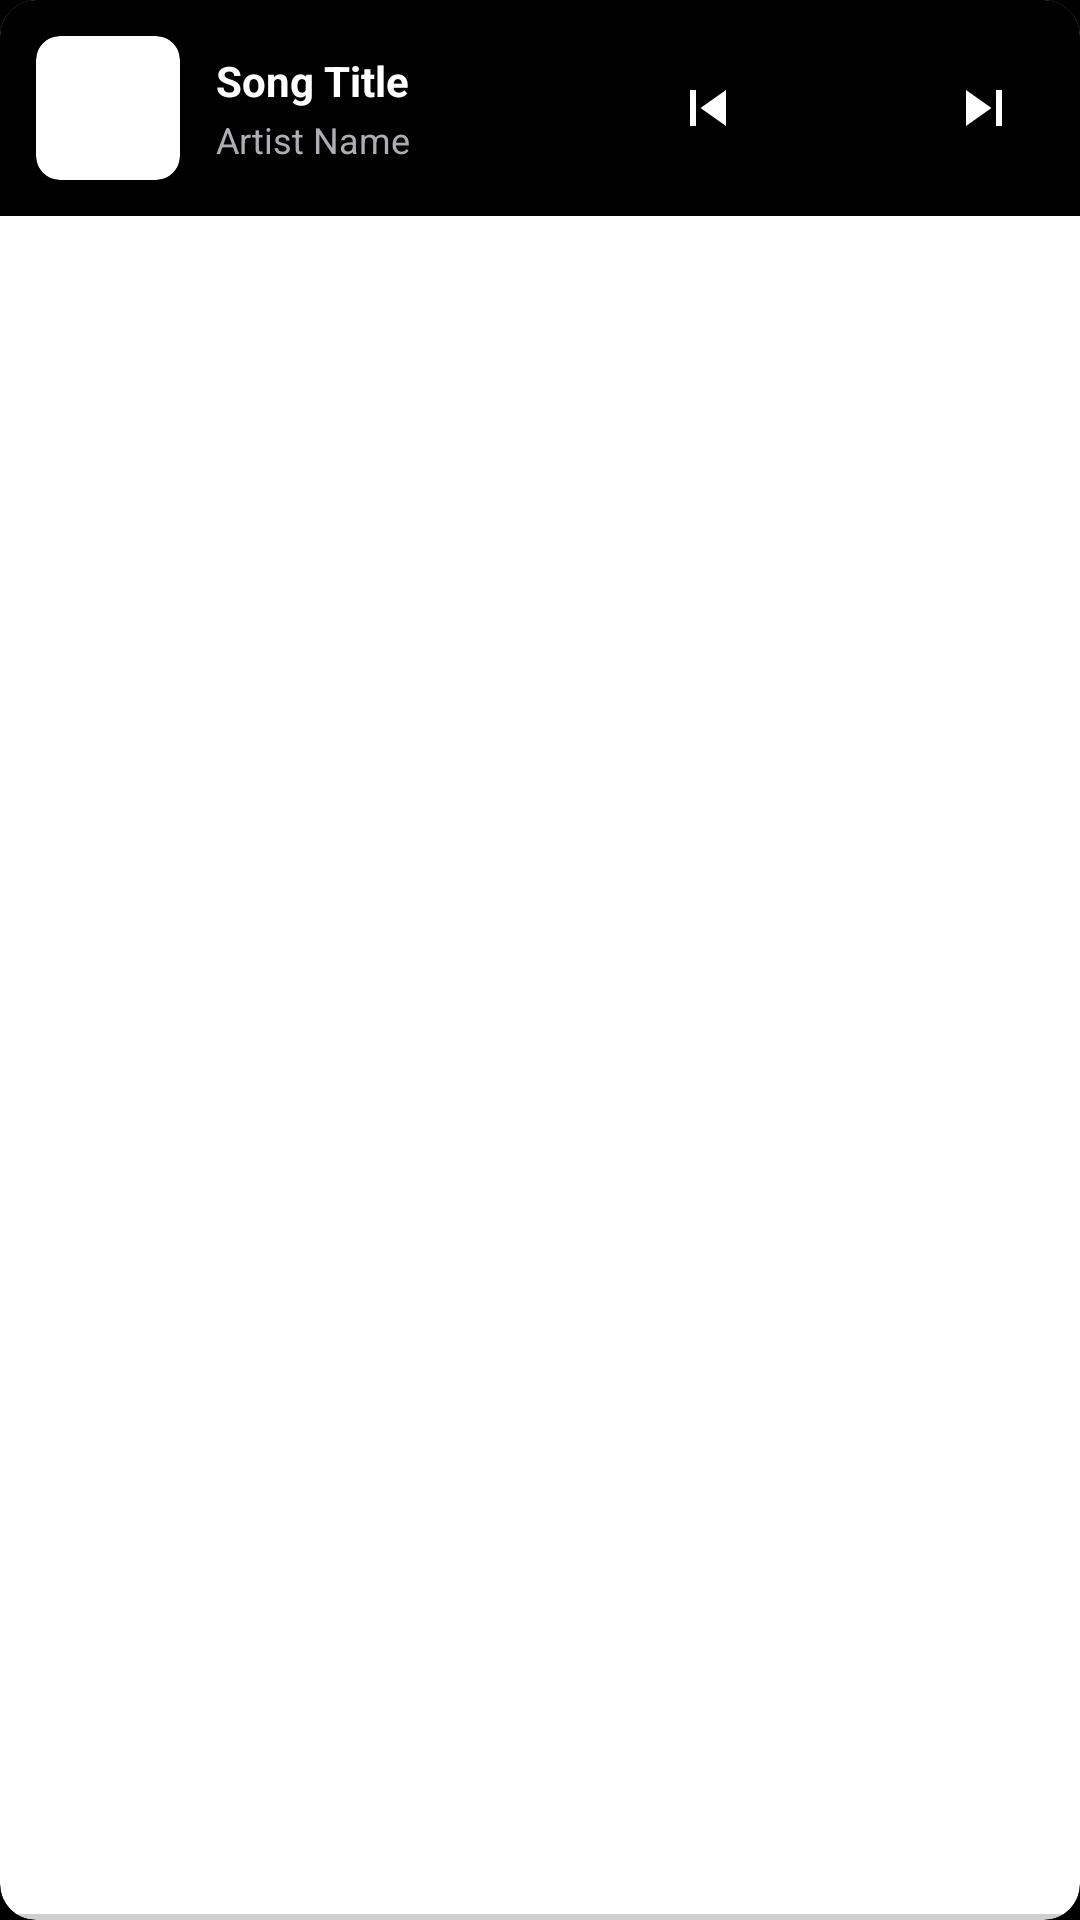

Where icons sit on this 1080px x 1920px app screen, as (x1, y1, x2, y2):
Next: (966, 90, 1002, 126)
Previous: (690, 90, 726, 126)
